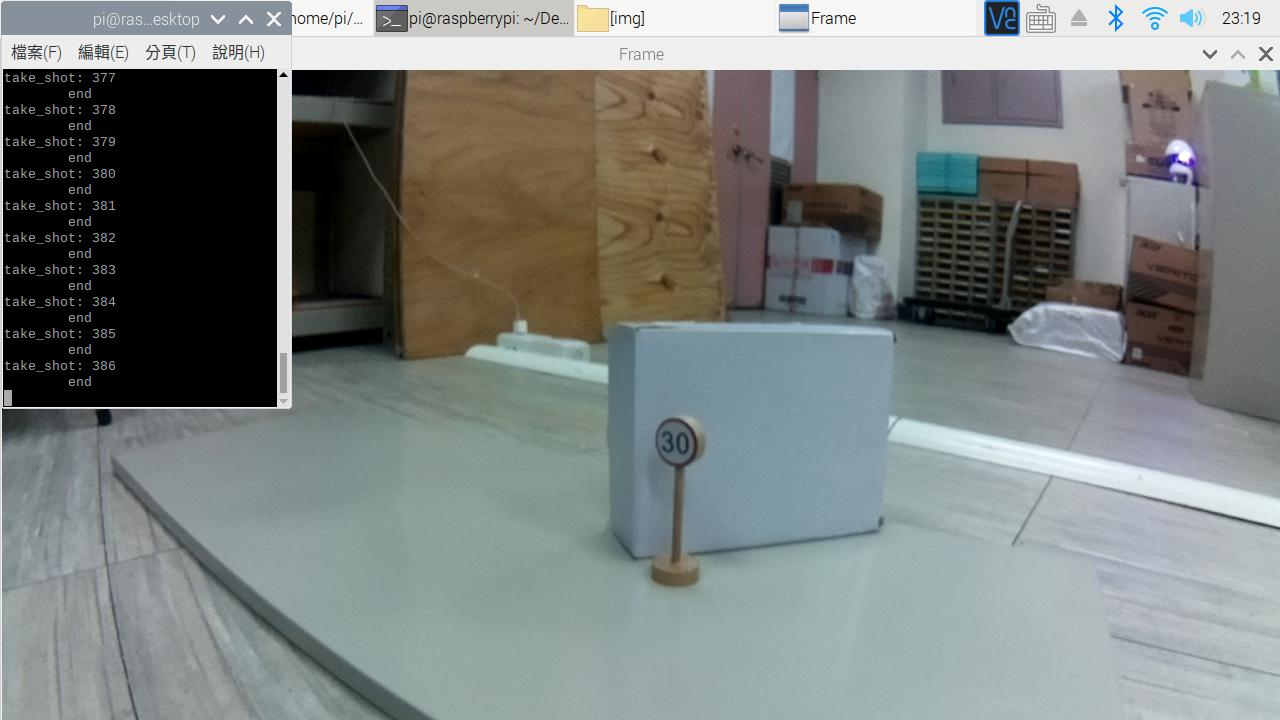Speed30: (647, 407, 720, 483)
